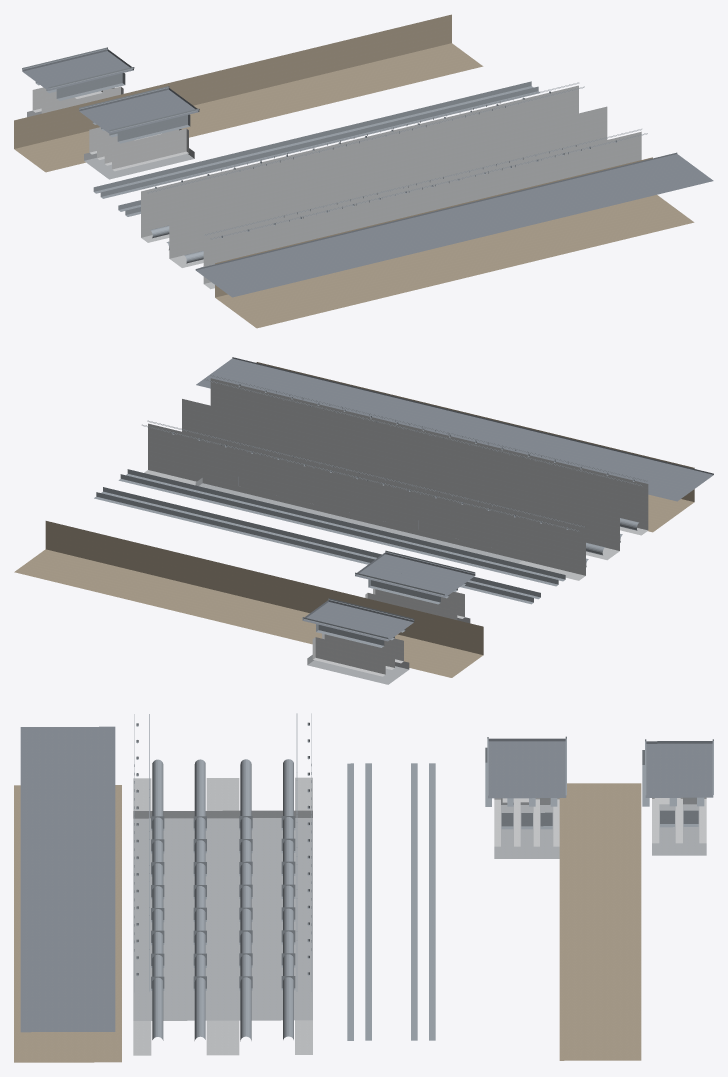
The model's file is madao-z3-lock.glb.
3 renders of one model, top to bottom at view 1: azimuth 30°, elevation 25°; view 2: azimuth 150°, elevation 25°; view 3: azimuth 270°, elevation 25°, orthographic. The views are drawn at different scales.
Visible parts, largest first — view 1: concrete_structure, earth_structure, road_aux, steel_structure, steel_detail, concreteLight_structure, concreteDark_structure, steel_aux; view 2: concrete_structure, earth_structure, road_aux, steel_structure, steel_detail, concreteLight_structure, concreteDark_structure, steel_aux; view 3: road_aux, concreteDark_structure, earth_structure, steel_structure, concrete_structure, steel_aux, steel_detail, concreteLight_structure, steel_gate.
Boxes of the visible parts, x1,y1,x2,y2 form: concrete_structure: (141,85,641,289); earth_structure: (14,14,694,328); road_aux: (22,49,713,297); steel_structure: (93,81,539,267); steel_detail: (35,73,647,239); concreteLight_structure: (32,86,188,171); concreteDark_structure: (27,110,194,179); steel_aux: (22,47,408,187); concrete_structure: (144,378,648,580); earth_structure: (14,362,694,677); road_aux: (196,357,713,641); steel_structure: (94,469,638,604); steel_detail: (142,375,647,647); concreteLight_structure: (312,589,464,676); concreteDark_structure: (195,478,521,684); steel_aux: (238,477,475,639); road_aux: (20,726,713,1032); concreteDark_structure: (133,797,706,1020); earth_structure: (14,783,641,1062); steel_structure: (152,759,435,1041); concrete_structure: (133,777,312,1055); steel_aux: (151,736,713,990); steel_detail: (134,713,704,992); concreteLight_structure: (494,797,706,846); steel_gate: (501,810,698,829).
Bounding box in the file's own units: 440 × 49.53 × 428.
7 materials, 7 textured.
